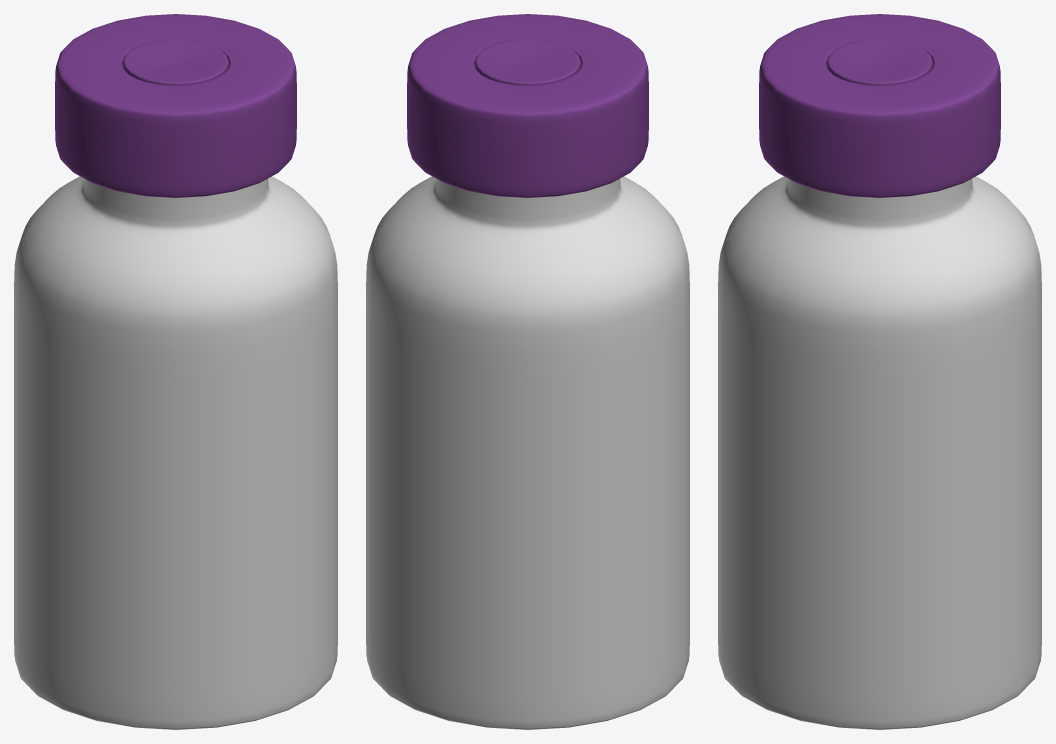
File: DIMORPHIUMACETATE.fbx
3 views of the same model, side by side, from view 1: azimuth 30°, elevation 25°; view 2: azimuth 150°, elevation 25°; view 3: azimuth 270°, elevation 25° (orthographic).
Visible parts, largest first — view 1: vacineobj; view 2: vacineobj; view 3: vacineobj.
Part boxes in pixels (left/top/right/bottom): vacineobj: left=14, top=14, right=337, bottom=729; vacineobj: left=366, top=14, right=689, bottom=729; vacineobj: left=718, top=14, right=1041, bottom=729.
Size of the model in its own units: 16.53 by 33.95 by 16.53.
